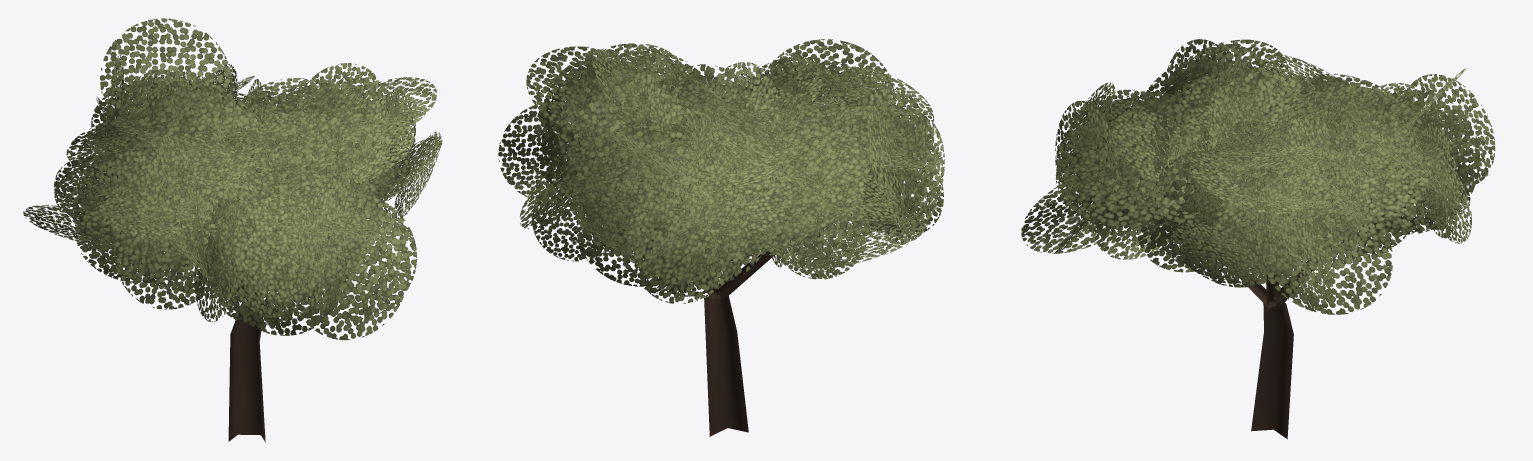
File: caral_huarango_lod1.glb
3 renders of one model, left to right at view 1: azimuth 30°, elevation 25°; view 2: azimuth 150°, elevation 25°; view 3: azimuth 270°, elevation 25°, orthographic. The views are drawn at different scales.
Visible parts, largest first — view 1: GEO-Kit_huarango_LOD1; view 2: GEO-Kit_huarango_LOD1; view 3: GEO-Kit_huarango_LOD1.
Boxes of the visible parts, x1,y1,x2,y2 form: GEO-Kit_huarango_LOD1: (23,18,442,442); GEO-Kit_huarango_LOD1: (498,39,944,436); GEO-Kit_huarango_LOD1: (1021,39,1495,439).
Bounding box in the file's own units: 7.77 × 6.51 × 8.31.
2 materials, 1 textured.
